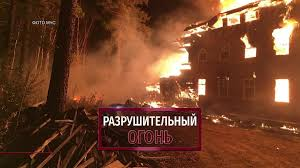fire: (142, 10, 295, 111)
